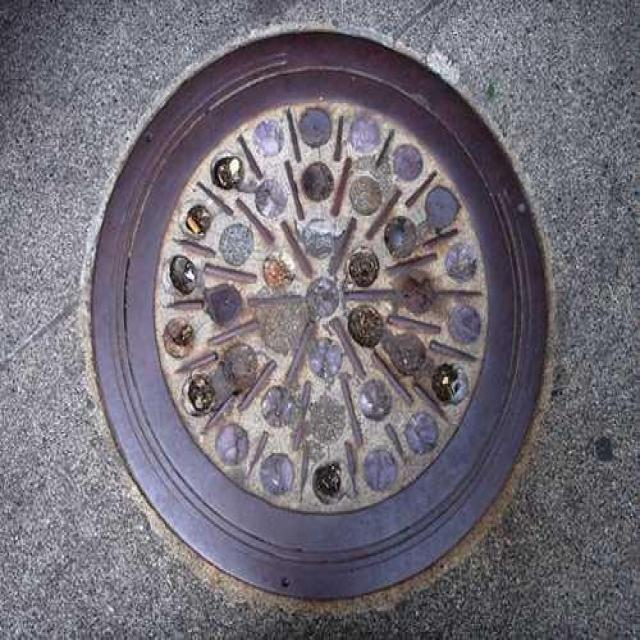manhole: (91, 31, 546, 597)
